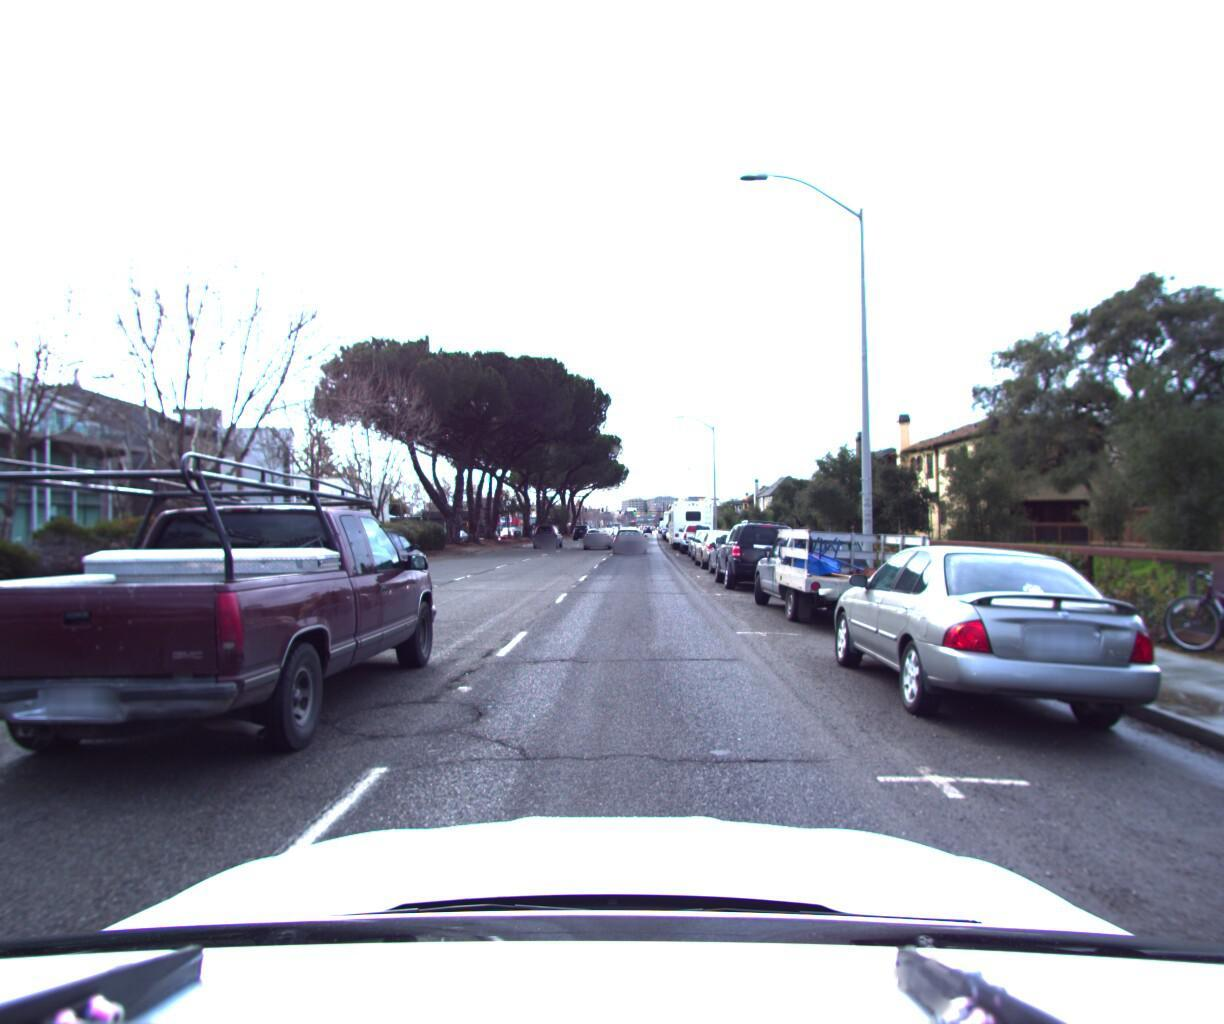bicycle: (1157, 559, 1224, 668)
car: (0, 454, 452, 819), (822, 531, 1191, 744), (748, 523, 941, 633), (305, 526, 434, 593), (713, 517, 810, 594), (707, 528, 787, 581), (694, 528, 757, 571), (692, 526, 744, 563), (682, 521, 719, 555), (611, 527, 648, 556), (583, 525, 614, 551), (532, 522, 565, 546)
truck: (668, 498, 718, 552)
